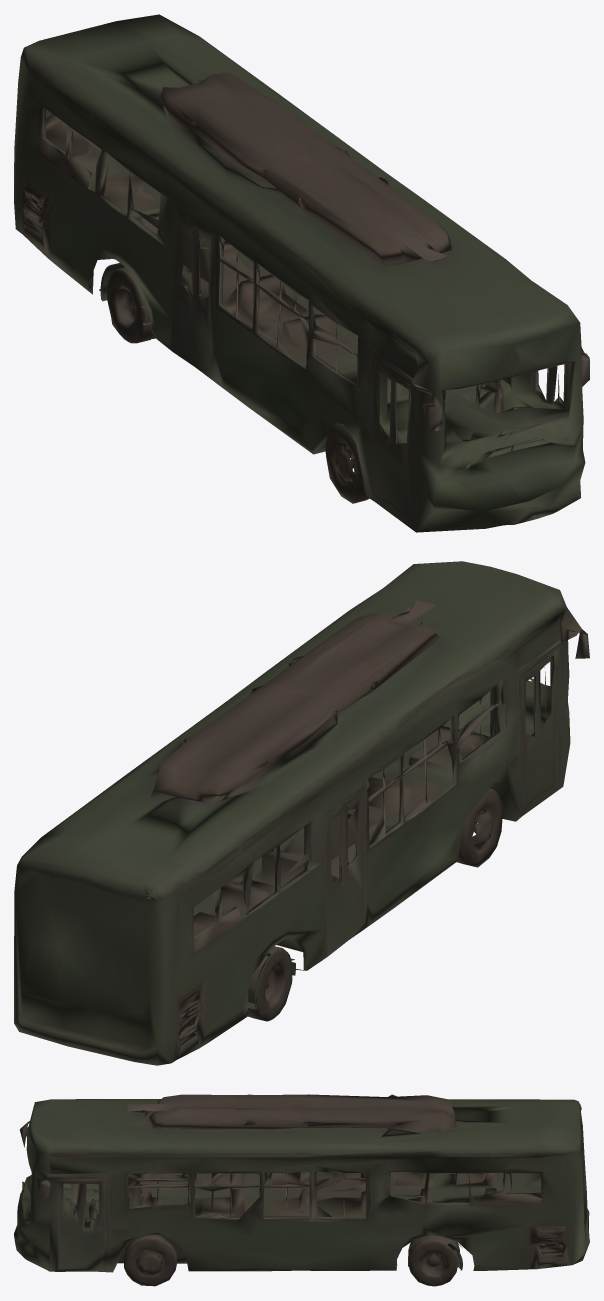
Rendered from city-bus-lite.glb.
The picture shows the model from 3 angles, top to bottom: view 1: azimuth 30°, elevation 25°; view 2: azimuth 150°, elevation 25°; view 3: azimuth 270°, elevation 25°; orthographic projection. The views are drawn at different scales.
Visible parts, largest first — view 1: body, mesh_rl, mesh_fl; view 2: body, mesh_rl, mesh_fl; view 3: body, mesh_rr, mesh_fr.
Boxes of the visible parts, left/top/right/bottom form: body: left=14, top=14, right=589, bottom=532; mesh_rl: left=99, top=263, right=155, bottom=343; mesh_fl: left=325, top=423, right=369, bottom=503; body: left=14, top=561, right=589, bottom=1065; mesh_rl: left=247, top=946, right=295, bottom=1021; mesh_fl: left=456, top=788, right=503, bottom=867; body: left=14, top=1094, right=589, bottom=1272; mesh_rr: left=408, top=1236, right=462, bottom=1286; mesh_fr: left=123, top=1235, right=176, bottom=1286.
Bounding box in the file's own units: 2.5 × 3.19 × 10.45.
Materials: 1 (1 with a texture image).
